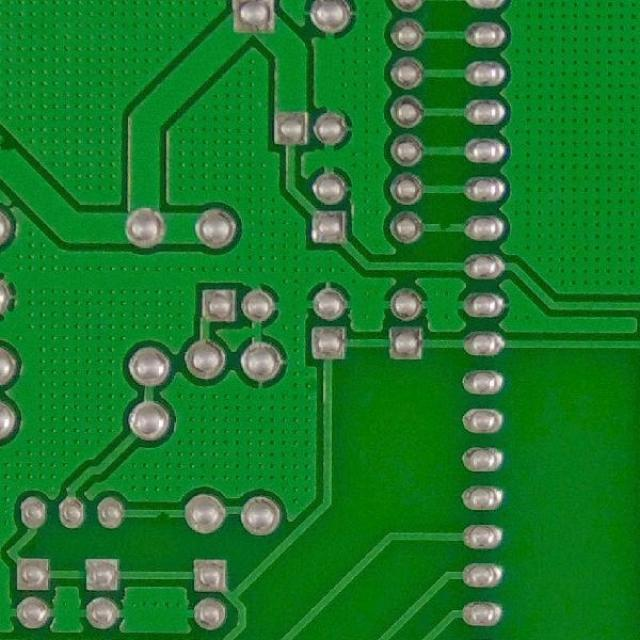mouse_bite: (1, 124, 25, 161), (433, 217, 459, 241), (151, 505, 174, 526)
